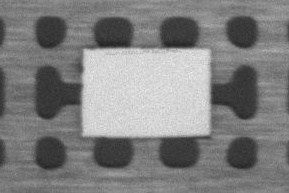DIE_CRACK: (156, 34, 270, 36)
